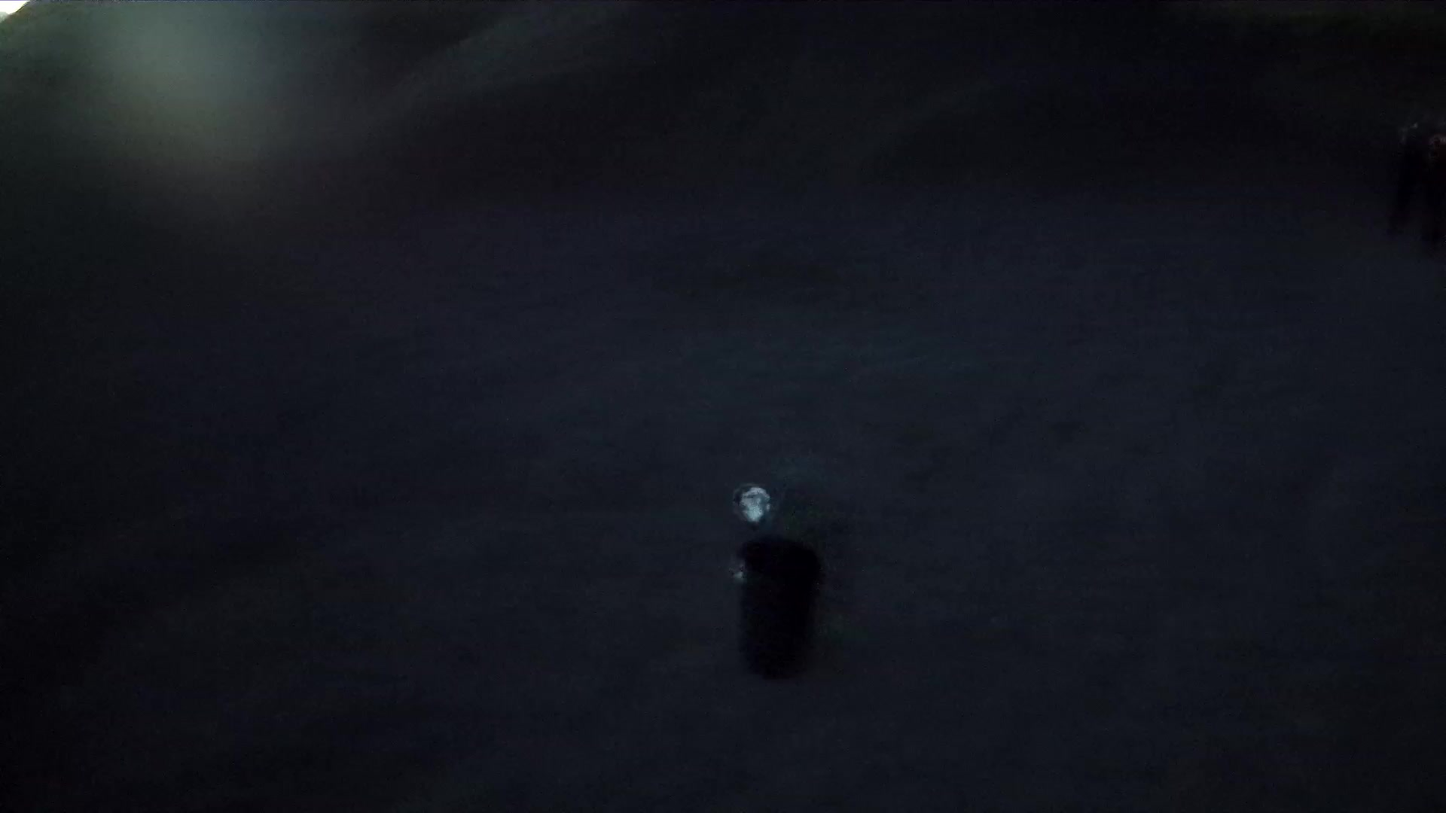Target: (737, 485, 775, 526)
